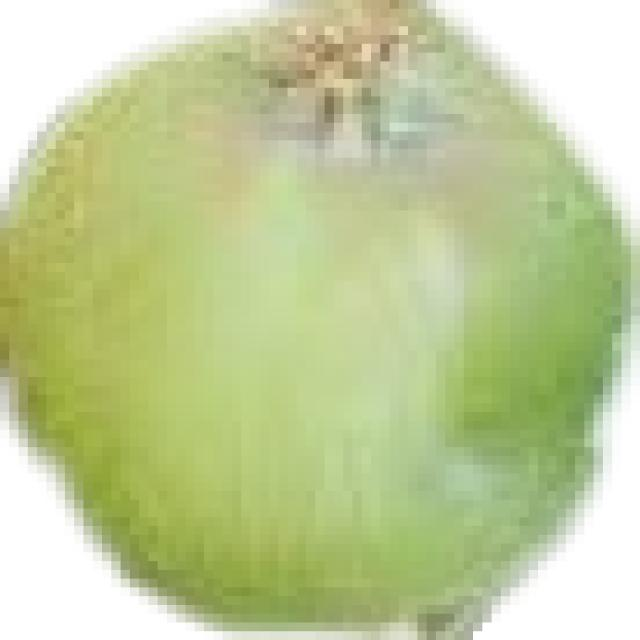20-_ripeness: (7, 3, 631, 635)
